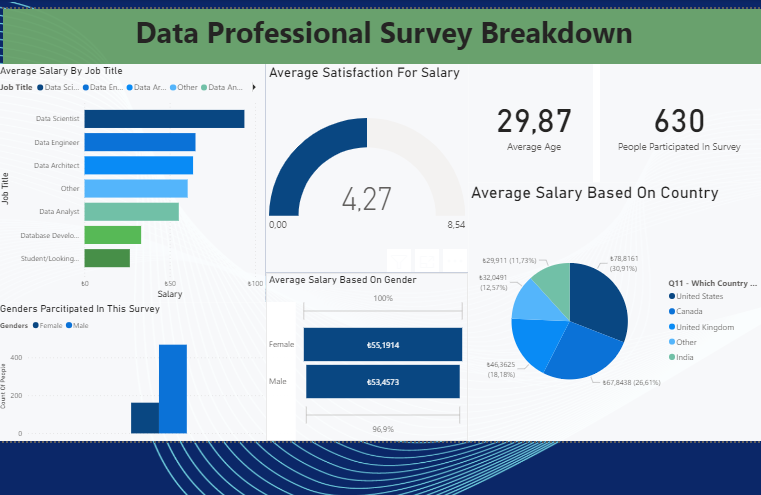

What the dashboard file says about the page in this screenshot:
{"tool":"powerbi","page":{"name":"Page 1","canvas":[1280,720],"ordinal":0},"visuals":[{"type":"textbox","box":[10.1,0,1269.9,92.4],"z":0},{"type":"card","fields":{"Values":["CountNonNull(Data Professional Survey.Unique ID)"]},"box":[992.8,92.4,287.2,196.5],"z":1000},{"type":"card","fields":{"Values":["Avg(Data Professional Survey.Q10 - Current Age)"]},"box":[785,91.7,220,196.7],"z":2000},{"type":"barChart","title":"Average Salary By Job Title","fields":{"Y":["Avg(Data Professional Survey.Average Salary)"],"Category":["Data Professional Survey.Q1 - Which Title Best Fits your Current Role?.1"],"Series":["Data Professional Survey.Q1 - Which Title Best Fits your Current Role?.1"]},"box":[0,91.7,448.3,396.7],"z":3000},{"type":"clusteredColumnChart","title":"Genders Parcitipated In This Survey","fields":{"Y":["CountNonNull(Data Professional Survey.Unique ID)"],"Series":["Data Professional Survey.Q9 - Male/Female?"]},"box":[0,487.5,497.6,232.9],"z":3001},{"type":"pieChart","title":"Average Salary Based On Country","fields":{"Category":["Data Professional Survey.Q11 - Which Country do you live in? - Copy.1"],"Y":["Avg(Data Professional Survey.Average Salary)"]},"box":[785,288.3,495,431.7],"z":3002},{"type":"funnel","title":"Average Salary Based On Gender","fields":{"Y":["Avg(Data Professional Survey.Average Salary)"],"Category":["Data Professional Survey.Q9 - Male/Female?"]},"box":[448.3,440,336.7,280],"z":3003},{"type":"gauge","title":"Average Satisfaction For Salary","fields":{"Y":["Avg(Data Professional Survey.Q6 - How Happy are you in your Current Position with the following? (Salary))"]},"box":[448.3,91.7,336.7,348.3],"z":3004}]}

Visuals, with their boxes on the page's 1280x720 design canvas (x1, y1, x2, y2). These are canvas units, not pixel positions in the 761x495 screenshot, which may show the page scaled, cropped or inside an application window:
textbox: [x1=10, y1=0, x2=1280, y2=92]
card - CountNonNull(Data Professional Survey.Unique ID): [x1=993, y1=92, x2=1280, y2=289]
card - Avg(Data Professional Survey.Q10 - Current Age): [x1=785, y1=92, x2=1005, y2=288]
"Average Salary By Job Title" barChart: [x1=0, y1=92, x2=448, y2=488]
"Genders Parcitipated In This Survey" clusteredColumnChart: [x1=0, y1=488, x2=498, y2=720]
"Average Salary Based On Country" pieChart: [x1=785, y1=288, x2=1280, y2=720]
"Average Salary Based On Gender" funnel: [x1=448, y1=440, x2=785, y2=720]
"Average Satisfaction For Salary" gauge: [x1=448, y1=92, x2=785, y2=440]
